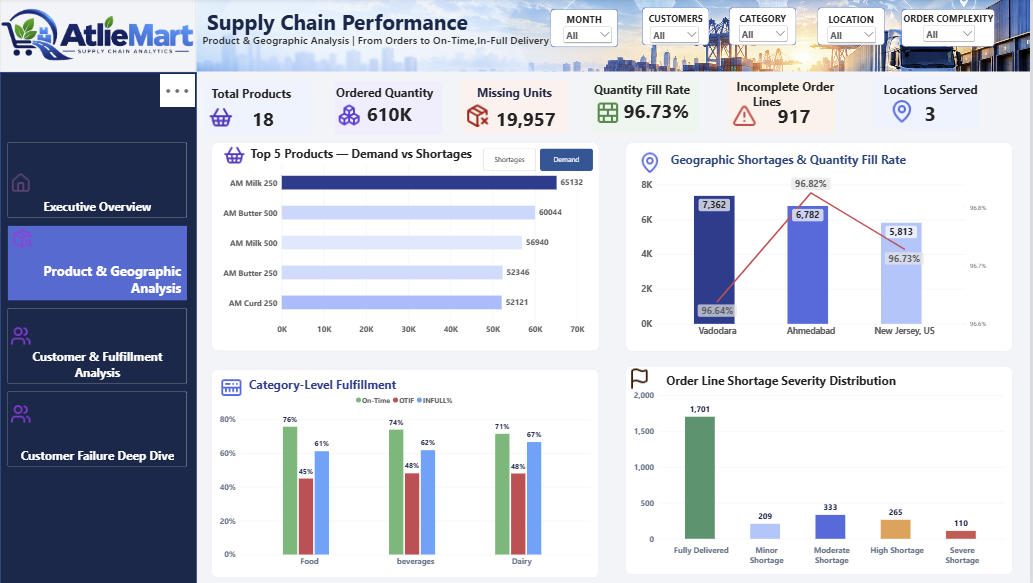

The dashboard page shown, as its layout file describes it:
{"tool":"powerbi","page":{"name":"Product & Geographic Analysis","canvas":[2100,1200],"ordinal":1},"visuals":[{"type":"shape","box":[0,151.5,401,1047.6],"z":0,"group":"g2"},{"type":"shape","box":[937.8,168.4,220,110],"z":0,"group":"g7"},{"type":"shape","box":[1204.6,168.4,220,110],"z":0},{"type":"shape","box":[417.1,171,220,110],"z":0,"group":"g4"},{"type":"cardVisual","fields":{"Data":["Measures_table.Ordered_Qty"]},"box":[709.3,193.9,168.4,85.5],"z":0,"group":"g3"},{"type":"cardVisual","fields":{"Data":["Measures_table.Missing_units"]},"box":[984.9,204.9,168.9,64.6],"z":0,"group":"g1"},{"type":"shape","box":[1274.8,752.8,788.6,425.7],"z":0,"group":"g6"},{"type":"shape","box":[430.3,757.7,788.6,425.7],"z":0,"group":"g5"},{"type":"group","id":"g1","title":"Group 2","box":[943.6,176.2,210.3,93.3],"z":1000,"group":"g7"},{"type":"cardVisual","fields":{"Data":["Measures_table.Product_Count"]},"box":[476.5,205.8,124.2,69.6],"z":1000,"group":"g4"},{"type":"image","box":[675.6,214.7,72.5,46.6],"z":1000,"group":"g3"},{"type":"image","box":[943.6,217.5,56,50],"z":1000,"group":"g1"},{"type":"pageNavigator","box":[15.8,294.2,366.5,660.3],"z":1000,"group":"g2"},{"type":"shape","box":[430.3,295,790.2,424.9],"z":1000},{"type":"clusteredColumnChart","fields":{"Category":["fact_order_line_rows.Line_Severity_Status"],"Y":["Measures_table.Order_lines"]},"box":[1274.8,787.1,788.6,391.4],"z":1000,"group":"g6"},{"type":"clusteredColumnChart","fields":{"Category":["dim_products_rows.category"],"Y":["Measures_table.ONTIME%","Measures_table.OTIF%","Measures_table.INFULL%"]},"box":[430.3,792,788.6,391.4],"z":1000,"group":"g5"},{"type":"shape","box":[680,171.4,220,110],"z":2000},{"type":"textbox","box":[685.2,176.2,256.5,46.6],"z":2000,"group":"g3"},{"type":"textbox","box":[971.5,176.2,176.9,33.3],"z":2000,"group":"g1"},{"type":"image","box":[422.9,220,56,50],"z":2000,"group":"g4"},{"type":"image","box":[18.1,468,54.1,42.8],"z":2000,"group":"g2"},{"type":"textbox","box":[1350.1,763.6,551.7,37.1],"z":2000,"group":"g6"},{"type":"textbox","box":[508.2,772,551.7,37.1],"z":2000,"group":"g5"},{"type":"group","id":"g2","title":"Group 5","box":[0,151.5,401,1047.6],"z":3000},{"type":"textbox","box":[432.5,181.4,269.4,85.5],"z":3000,"group":"g4"},{"type":"image","box":[1275,757.4,56.8,45],"z":3000,"group":"g6"},{"type":"image","box":[443.3,772,56.8,45],"z":3000,"group":"g5"},{"type":"image","box":[16.2,826.6,54.1,42.8],"z":3000,"group":"g2"},{"type":"barChart","fields":{"Category":["dim_products_rows.product_name"],"Y":["Measures_table.Ordered_Qty"]},"box":[437.4,316.4,783,391.4],"z":4000},{"type":"image","box":[15.8,357.7,54.1,42.8],"z":4000,"group":"g2"},{"type":"image","box":[16.2,668.4,54.1,42.8],"z":5000},{"type":"cardVisual","fields":{"Data":["Measures_table.Quantity Fill Rate"]},"box":[1254.3,189.6,168.4,85.5],"z":6000},{"type":"textbox","box":[510.1,301.2,550.6,60.6],"z":7000},{"type":"image","box":[1290.9,306.1,56.8,45],"z":8000},{"type":"image","box":[448.2,300.3,56.4,45],"z":9000},{"type":"group","id":"g3","title":"Group 2","box":[675.6,176.2,266,103.2],"z":10000},{"type":"image","box":[1460.6,427.3,56.8,45],"z":11000},{"type":"shape","box":[1274.6,295,788.6,425.7],"z":12000},{"type":"textbox","box":[1360.7,314.3,551.7,37.1],"z":13000},{"type":"image","box":[1295.8,314.3,56.8,45],"z":14000},{"type":"shape","box":[1779.7,163.2,217.6,106.2],"z":15000},{"type":"shape","box":[1482.7,167.9,220,110],"z":16000},{"type":"image","box":[0,0,400,154],"z":17000},{"type":"cardVisual","fields":{"Data":["Count(dim_customers_rows.city)"]},"box":[1834.1,191.7,124.3,80.3],"z":18000},{"type":"cardVisual","fields":{"Data":["Measures_table.incomplete_OrderLines"]},"box":[1530.4,199.1,173.9,72],"z":19000},{"type":"image","box":[401,4.5,1700.9,148.7],"z":20000},{"type":"image","box":[1209.8,209.8,56,50],"z":21000},{"type":"image","box":[1808.2,207.2,56,50],"z":22000},{"type":"image","box":[1488.5,216.9,56,50],"z":23000},{"type":"textbox","box":[422.3,19.9,628.5,84.5],"z":24000},{"type":"textbox","box":[1800,169.7,227.3,63.6],"z":25000},{"type":"textbox","box":[1499.9,165.8,220.2,119.2],"z":26000},{"type":"textbox","box":[411.9,72.5,757,38.3],"z":27000},{"type":"shape","box":[1666,22.5,137,77],"z":28000},{"type":"shape","box":[1307.8,22.5,137,77],"z":29000},{"type":"shape","box":[1121.7,23.3,137.3,77.7],"z":30000},{"type":"shape","box":[1485.7,22.5,137,77],"z":31000},{"type":"shape","box":[1836.7,23.3,190,77],"z":32000},{"type":"slicer","fields":{"Values":["dim_products_rows.category"]},"box":[1499.9,51.8,109.3,84.5],"z":33000},{"type":"slicer","fields":{"Values":["dim_customers_rows.city"]},"box":[1681.2,54.4,109.3,84.5],"z":34000},{"type":"slicer","fields":{"Values":["Order_Complexity.complexity_Category"]},"box":[1875.5,51.8,115.1,81.2],"z":35000},{"type":"slicer","fields":{"Values":["dim_customers_rows.customer_name"]},"box":[1321.2,54.4,109.3,84.5],"z":36000},{"type":"slicer","fields":{"Values":["date_table.month_name"]},"box":[1142.4,54.4,109.3,84.5],"z":37000},{"type":"textbox","box":[1282.3,31.1,186.4,85.3],"z":38000},{"type":"textbox","box":[1095.8,33.7,186.4,85.3],"z":39000},{"type":"textbox","box":[1639.8,33.7,186.4,85.3],"z":40000},{"type":"textbox","box":[1834.1,31.1,196.9,44],"z":41000},{"type":"textbox","box":[1461,31.1,186.4,85.3],"z":43000},{"type":"group","id":"g4","title":"Group 1","box":[417.1,171,284.8,110],"z":44000},{"type":"lineClusteredColumnComboChart","fields":{"Category":["dim_customers_rows.city"],"Y":["Measures_table.Missing_units"],"Y2":["Measures_table.Quantity Fill Rate"]},"box":[1290.9,341,752.7,372.6],"z":45000},{"type":"group","id":"g5","title":"Group 4","box":[430.3,757.7,787.5,427.6],"z":46000},{"type":"group","id":"g6","title":"Group 4","box":[1274.8,752.8,787.5,424.8],"z":47000},{"type":"group","id":"g7","title":"Group 3","box":[937.8,168.4,220.2,111.4],"z":48000},{"type":"textbox","box":[1209.8,171,295.3,69.9],"z":49000},{"type":"bookmarkNavigator","box":[985.1,308.5,224.6,46],"z":50000}]}

Visuals, with their boxes on the page's 2100x1200 design canvas (x1, y1, x2, y2). These are canvas units, not pixel positions in the 1033x583 screenshot, which may show the page scaled, cropped or inside an application window:
shape: (x1=0, y1=152, x2=401, y2=1199)
shape: (x1=938, y1=168, x2=1158, y2=278)
shape: (x1=1205, y1=168, x2=1425, y2=278)
shape: (x1=417, y1=171, x2=637, y2=281)
cardVisual - Measures_table.Ordered_Qty: (x1=709, y1=194, x2=878, y2=279)
cardVisual - Measures_table.Missing_units: (x1=985, y1=205, x2=1154, y2=270)
shape: (x1=1275, y1=753, x2=2063, y2=1178)
shape: (x1=430, y1=758, x2=1219, y2=1183)
"Group 2" group: (x1=944, y1=176, x2=1154, y2=270)
cardVisual - Measures_table.Product_Count: (x1=476, y1=206, x2=601, y2=275)
image: (x1=676, y1=215, x2=748, y2=261)
image: (x1=944, y1=218, x2=1000, y2=268)
pageNavigator: (x1=16, y1=294, x2=382, y2=954)
shape: (x1=430, y1=295, x2=1220, y2=720)
clusteredColumnChart - fact_order_line_rows.Line_Severity_Status x Measures_table.Order_lines: (x1=1275, y1=787, x2=2063, y2=1178)
clusteredColumnChart - dim_products_rows.category x Measures_table.ONTIME%: (x1=430, y1=792, x2=1219, y2=1183)
shape: (x1=680, y1=171, x2=900, y2=281)
textbox: (x1=685, y1=176, x2=942, y2=223)
textbox: (x1=972, y1=176, x2=1148, y2=210)
image: (x1=423, y1=220, x2=479, y2=270)
image: (x1=18, y1=468, x2=72, y2=511)
textbox: (x1=1350, y1=764, x2=1902, y2=801)
textbox: (x1=508, y1=772, x2=1060, y2=809)
"Group 5" group: (x1=0, y1=152, x2=401, y2=1199)
textbox: (x1=432, y1=181, x2=702, y2=267)
image: (x1=1275, y1=757, x2=1332, y2=802)
image: (x1=443, y1=772, x2=500, y2=817)
image: (x1=16, y1=827, x2=70, y2=869)
barChart - dim_products_rows.product_name x Measures_table.Ordered_Qty: (x1=437, y1=316, x2=1220, y2=708)
image: (x1=16, y1=358, x2=70, y2=400)
image: (x1=16, y1=668, x2=70, y2=711)
cardVisual - Measures_table.Quantity Fill Rate: (x1=1254, y1=190, x2=1423, y2=275)
textbox: (x1=510, y1=301, x2=1061, y2=362)
image: (x1=1291, y1=306, x2=1348, y2=351)
image: (x1=448, y1=300, x2=505, y2=345)
"Group 2" group: (x1=676, y1=176, x2=942, y2=279)
image: (x1=1461, y1=427, x2=1517, y2=472)
shape: (x1=1275, y1=295, x2=2063, y2=721)
textbox: (x1=1361, y1=314, x2=1912, y2=351)
image: (x1=1296, y1=314, x2=1353, y2=359)
shape: (x1=1780, y1=163, x2=1997, y2=269)
shape: (x1=1483, y1=168, x2=1703, y2=278)
image: (x1=0, y1=0, x2=400, y2=154)
cardVisual - Count(dim_customers_rows.city): (x1=1834, y1=192, x2=1958, y2=272)
cardVisual - Measures_table.incomplete_OrderLines: (x1=1530, y1=199, x2=1704, y2=271)
image: (x1=401, y1=4, x2=2102, y2=153)
image: (x1=1210, y1=210, x2=1266, y2=260)
image: (x1=1808, y1=207, x2=1864, y2=257)
image: (x1=1488, y1=217, x2=1544, y2=267)
textbox: (x1=422, y1=20, x2=1051, y2=104)
textbox: (x1=1800, y1=170, x2=2027, y2=233)
textbox: (x1=1500, y1=166, x2=1720, y2=285)
textbox: (x1=412, y1=72, x2=1169, y2=111)
shape: (x1=1666, y1=22, x2=1803, y2=100)
shape: (x1=1308, y1=22, x2=1445, y2=100)
shape: (x1=1122, y1=23, x2=1259, y2=101)
shape: (x1=1486, y1=22, x2=1623, y2=100)
shape: (x1=1837, y1=23, x2=2027, y2=100)
slicer - dim_products_rows.category: (x1=1500, y1=52, x2=1609, y2=136)
slicer - dim_customers_rows.city: (x1=1681, y1=54, x2=1790, y2=139)
slicer - Order_Complexity.complexity_Category: (x1=1876, y1=52, x2=1991, y2=133)
slicer - dim_customers_rows.customer_name: (x1=1321, y1=54, x2=1430, y2=139)
slicer - date_table.month_name: (x1=1142, y1=54, x2=1252, y2=139)
textbox: (x1=1282, y1=31, x2=1469, y2=116)
textbox: (x1=1096, y1=34, x2=1282, y2=119)
textbox: (x1=1640, y1=34, x2=1826, y2=119)
textbox: (x1=1834, y1=31, x2=2031, y2=75)
textbox: (x1=1461, y1=31, x2=1647, y2=116)
"Group 1" group: (x1=417, y1=171, x2=702, y2=281)
lineClusteredColumnComboChart - dim_customers_rows.city x Measures_table.Missing_units: (x1=1291, y1=341, x2=2044, y2=714)
"Group 4" group: (x1=430, y1=758, x2=1218, y2=1185)
"Group 4" group: (x1=1275, y1=753, x2=2062, y2=1178)
"Group 3" group: (x1=938, y1=168, x2=1158, y2=280)
textbox: (x1=1210, y1=171, x2=1505, y2=241)
bookmarkNavigator: (x1=985, y1=308, x2=1210, y2=354)
